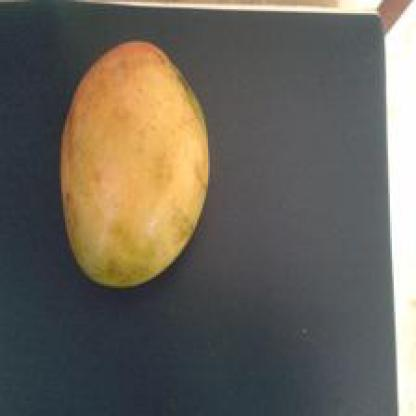mango: (54, 35, 212, 290)
